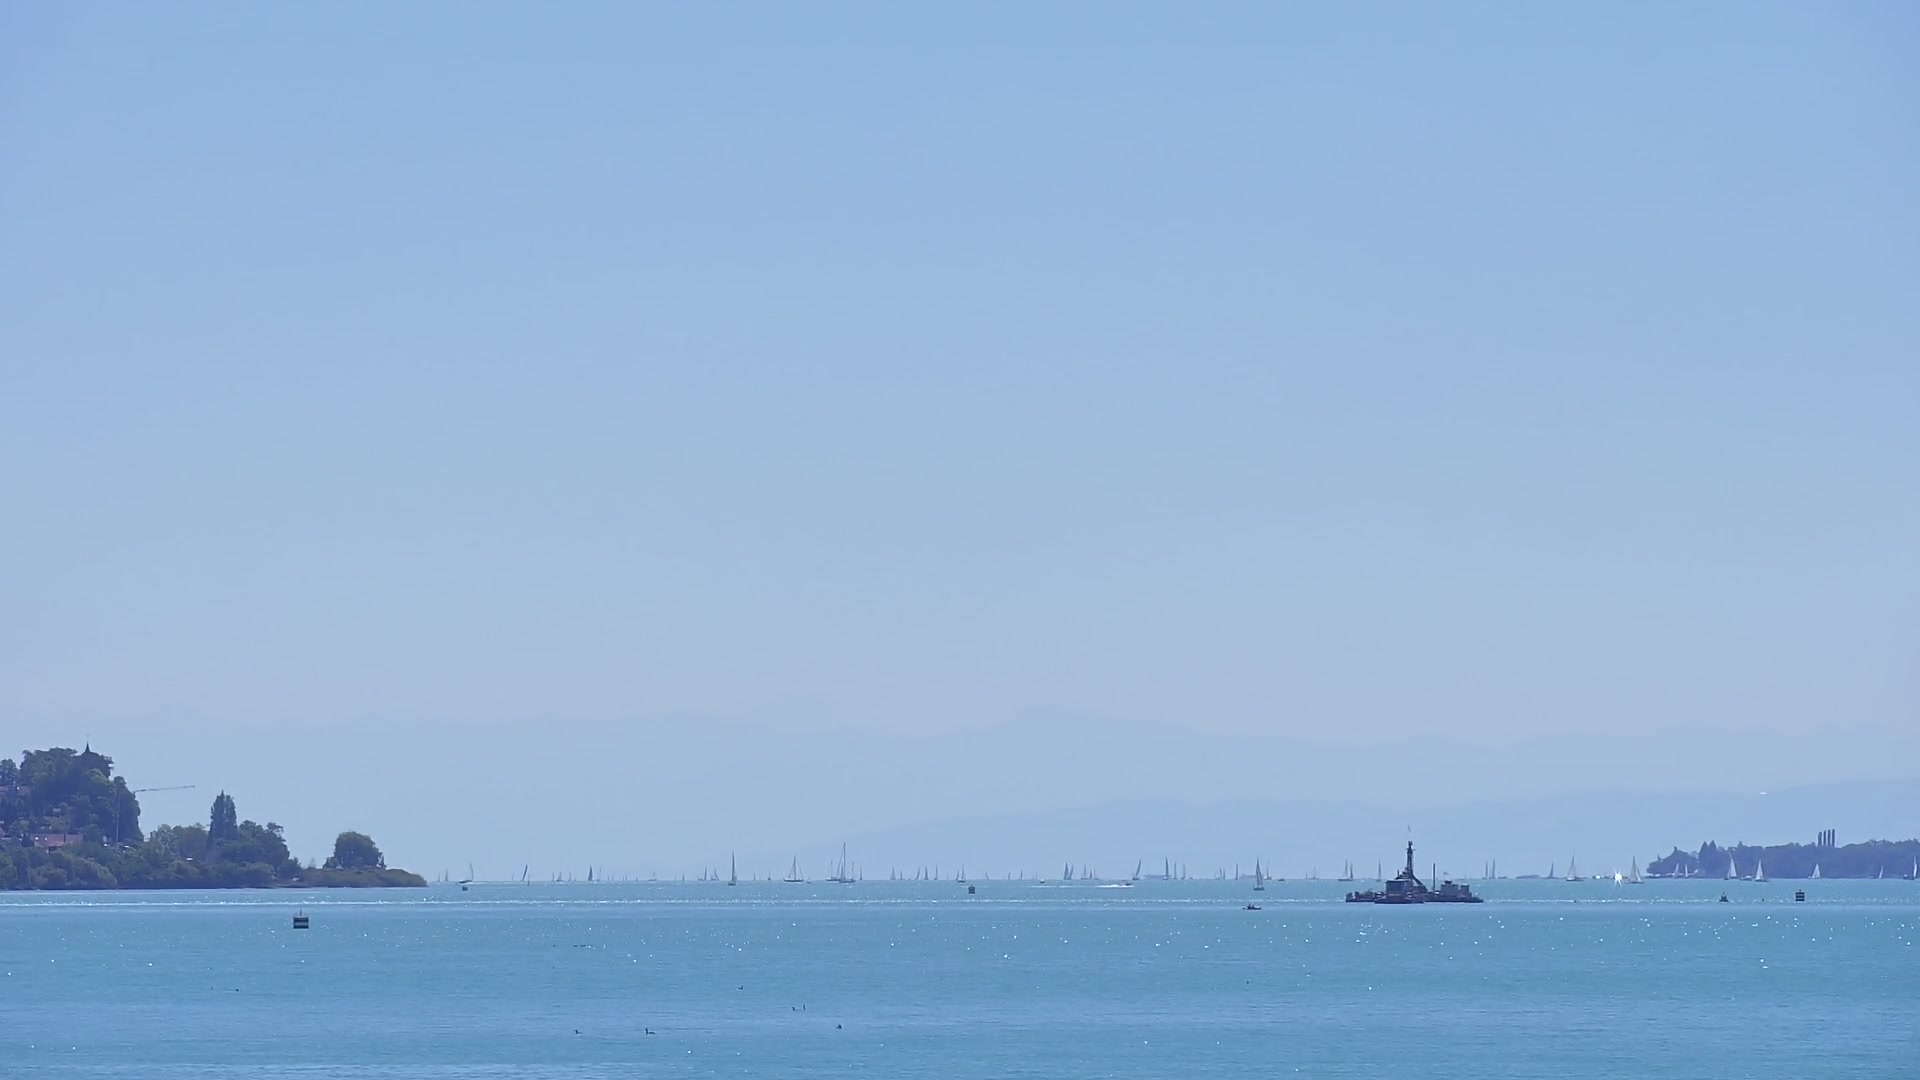sea: (835, 841, 856, 884), (782, 855, 804, 882), (1564, 852, 1584, 882), (1629, 855, 1644, 885), (1251, 857, 1265, 891), (1902, 855, 1917, 880), (1337, 860, 1354, 882), (727, 849, 736, 886), (824, 858, 837, 882), (1722, 858, 1735, 881), (1754, 858, 1766, 882), (953, 862, 967, 884), (1131, 858, 1142, 881), (1807, 862, 1820, 880), (1063, 860, 1073, 880), (464, 860, 473, 882), (1375, 858, 1383, 882), (1079, 864, 1089, 881), (520, 864, 529, 882), (698, 865, 708, 881), (1487, 858, 1495, 880), (1163, 856, 1170, 880), (1480, 861, 1487, 880), (1545, 861, 1553, 880), (1265, 862, 1273, 880), (1671, 862, 1679, 880), (709, 866, 719, 881), (1242, 903, 1262, 910), (587, 862, 593, 881), (1216, 866, 1225, 880), (890, 865, 897, 881), (646, 872, 657, 881), (596, 868, 603, 882), (765, 866, 771, 881), (1878, 865, 1884, 880), (1234, 862, 1240, 880), (914, 866, 920, 880), (555, 870, 562, 882), (1018, 869, 1025, 881), (444, 866, 450, 881), (1093, 865, 1098, 880), (1685, 864, 1691, 878), (1174, 861, 1178, 880), (1739, 876, 1753, 881), (858, 864, 862, 881), (1182, 862, 1185, 880), (934, 865, 938, 880), (924, 865, 928, 880), (985, 872, 992, 880), (753, 872, 758, 881), (1089, 870, 1095, 880), (568, 870, 572, 882), (436, 873, 440, 884), (1039, 877, 1044, 884)
